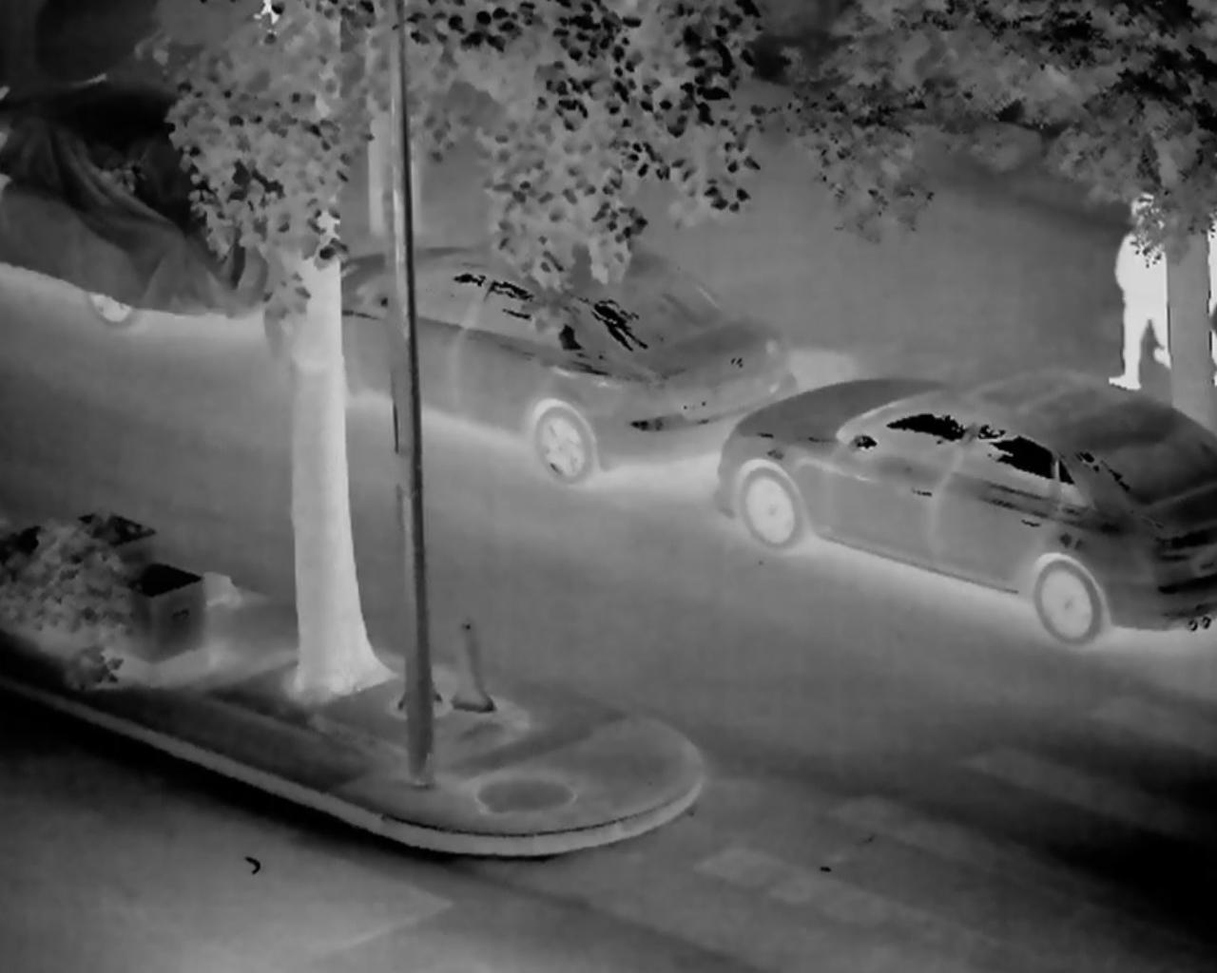person: (1083, 197, 1207, 402)
